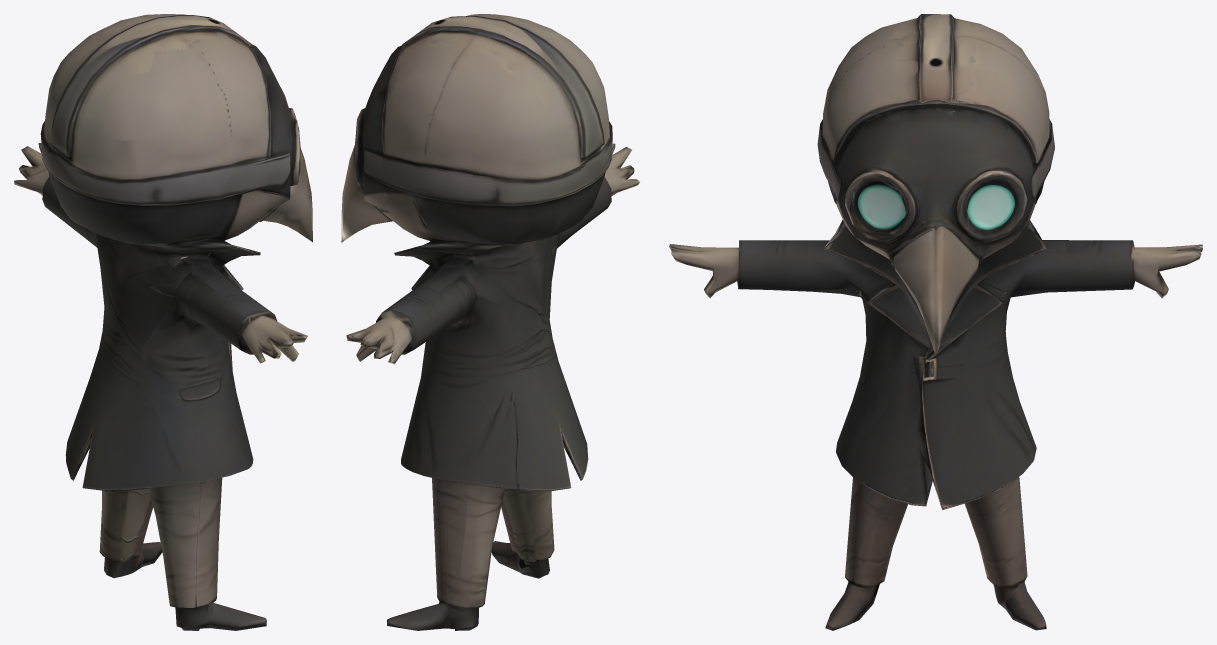
File: _0929204007_texture.fbx
The picture shows the model from 3 angles, left to right: view 1: azimuth 30°, elevation 25°; view 2: azimuth 150°, elevation 25°; view 3: azimuth 270°, elevation 25°; orthographic projection.
Parts seen in each view (by area): view 1: tripo_node_6ebefc91; view 2: tripo_node_6ebefc91; view 3: tripo_node_6ebefc91.
Part boxes in pixels (<box>): tripo_node_6ebefc91: <box>14,14,312,630</box>; tripo_node_6ebefc91: <box>341,14,639,630</box>; tripo_node_6ebefc91: <box>669,14,1202,630</box>.
Size of the model in its own units: 55.68 by 120 by 100.
Materials: 1 (1 with a texture image).
